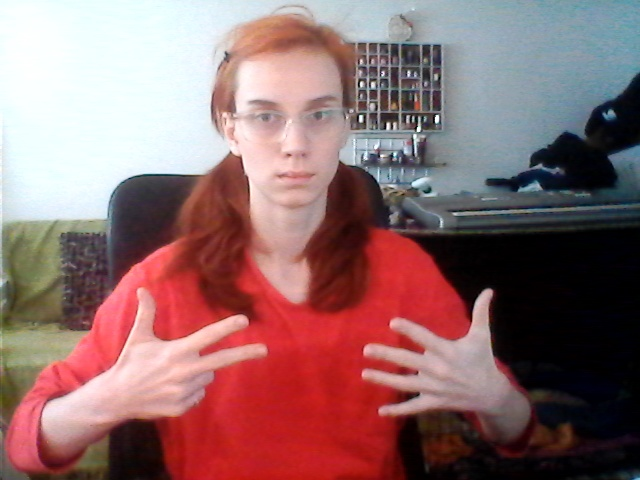osem: (121, 281, 504, 428)
